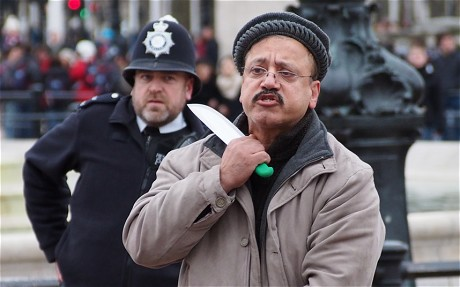knife: (184, 100, 260, 158)
